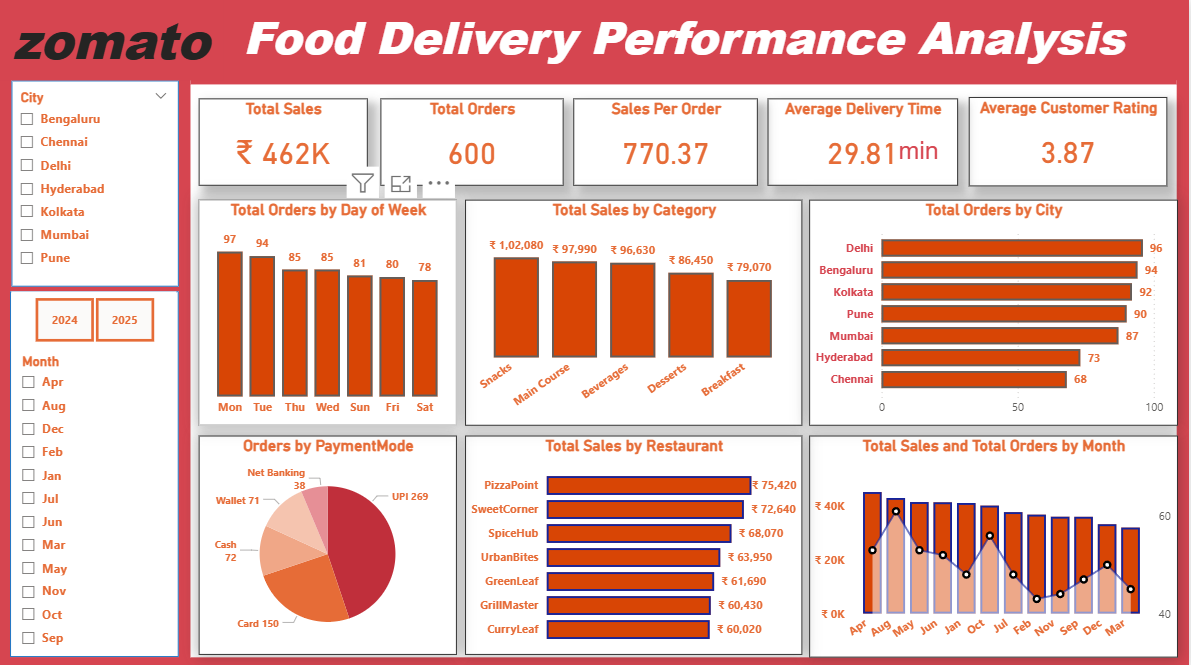

What the dashboard file says about the page in this screenshot:
{"tool":"powerbi","page":{"name":"Page 1","canvas":[1280,720],"ordinal":0},"visuals":[{"type":"shape","box":[13.9,86.5,179.9,221.8],"z":0},{"type":"shape","box":[12.6,313.9,181.3,393.4],"z":1000},{"type":"slicer","fields":{"Values":["Sheet1.Month"]},"box":[12.6,375.2,178.6,329.2],"z":2000},{"type":"slicer","fields":{"Values":["Sheet1.City"]},"box":[11.2,86.5,182.7,221.8],"z":3000},{"type":"slicer","fields":{"Values":["Sheet1.Year"]},"box":[13.9,313.9,177.2,61.4],"z":4000},{"type":"shape","box":[206,86.6,1061.2,620.9],"z":5000},{"type":"card","title":"Total Sales","fields":{"Values":["Sheet1.Total Sales"]},"box":[214.8,106,181.3,93.5],"z":6000},{"type":"card","title":"Total Orders","fields":{"Values":["Sheet1.Total Orders"]},"box":[410.1,106,196.7,93.5],"z":7000},{"type":"card","title":"Average Customer Rating","fields":{"Values":["Sheet1.Average Customer Rating"]},"box":[1043.3,104.5,213.4,95.5],"z":8000},{"type":"card","title":"Average Delivery Time","fields":{"Values":["Sheet1.Average Delivery Time"]},"box":[826.9,106,204.5,94],"z":9000},{"type":"card","title":"Sales Per Order","fields":{"Values":["Sheet1.Sales Per Order"]},"box":[617.9,106,198.5,94],"z":10000},{"type":"lineStackedColumnComboChart","fields":{"Category":["Sheet1.Month"],"Y2":["Sheet1.Total Orders"],"Y":["Sheet1.Total Sales"]},"box":[871.8,468.7,396.2,238.5],"z":11000},{"type":"clusteredBarChart","fields":{"Category":["Sheet1.Restaurant"],"Y":["Sheet1.Total Sales"]},"box":[500.8,468.7,362.7,235.7],"z":12000},{"type":"columnChart","fields":{"Category":["Sheet1.Category"],"Y":["Sheet1.Total Sales"]},"box":[500.8,214.8,362.7,242.7],"z":13000},{"type":"clusteredBarChart","fields":{"Category":["Sheet1.City"],"Y":["Sheet1.Total Orders"]},"box":[871.8,214.8,396.2,242.7],"z":14000},{"type":"textbox","box":[206,0,1061.2,91],"z":15000},{"type":"textbox","box":[0,0,241.3,86.5],"z":16000},{"type":"pieChart","title":"Orders by PaymentMode","fields":{"Category":["Sheet1.PaymentMode"],"Y":["Sheet1.Total Orders"]},"box":[214.8,468.7,277.6,235.7],"z":17000},{"type":"columnChart","title":"Total Orders by Day of Week","fields":{"Y":["Sheet1.Total Orders"],"Category":["Sheet1.DayofWeek"]},"box":[214.8,214.8,277.6,242.7],"z":18000},{"type":"textbox","box":[962.7,141.8,58.2,44.8],"z":19000}]}

Visuals, with their boxes in screenshot pixels (x1, y1, x2, y2), scaled from the page's 1280x720 canvas onto the 1191x665 screenshot:
shape: [13,80,180,285]
shape: [12,290,180,653]
slicer - Sheet1.Month: [12,347,178,651]
slicer - Sheet1.City: [10,80,180,285]
slicer - Sheet1.Year: [13,290,178,347]
shape: [192,80,1179,653]
"Total Sales" card: [200,98,369,184]
"Total Orders" card: [382,98,565,184]
"Average Customer Rating" card: [971,97,1169,185]
"Average Delivery Time" card: [769,98,960,185]
"Sales Per Order" card: [575,98,760,185]
lineStackedColumnComboChart - Sheet1.Month x Sheet1.Total Orders: [811,433,1180,653]
clusteredBarChart - Sheet1.Restaurant x Sheet1.Total Sales: [466,433,803,651]
columnChart - Sheet1.Category x Sheet1.Total Sales: [466,198,803,423]
clusteredBarChart - Sheet1.City x Sheet1.Total Orders: [811,198,1180,423]
textbox: [192,0,1179,84]
textbox: [0,0,225,80]
"Orders by PaymentMode" pieChart: [200,433,458,651]
"Total Orders by Day of Week" columnChart: [200,198,458,423]
textbox: [896,131,950,172]
